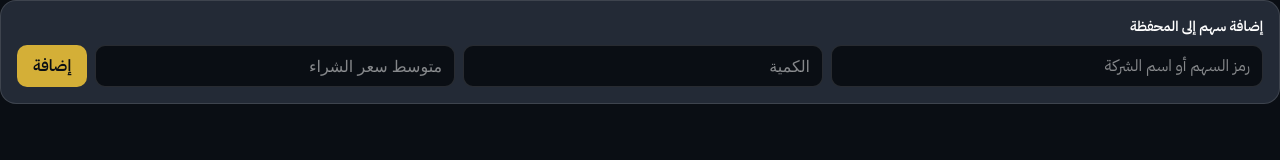
it: AddHoldingForm › surfaces the real backend error message on failure, not a generic one
Type "9999" into the field with placeholder "رمز السهم أو اسم الشركة" at (1047, 66), box [831, 45, 1263, 87]
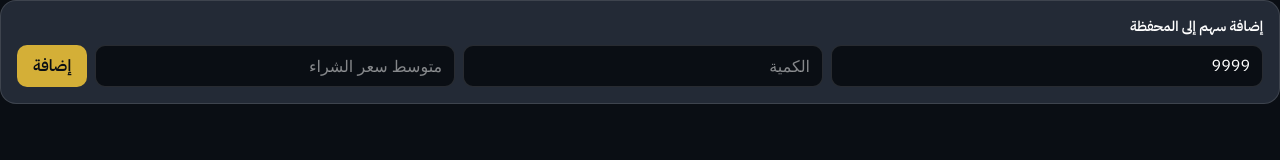
Type "1" into the number field with placeholder "الكمية" at (643, 66), box [463, 45, 823, 87]
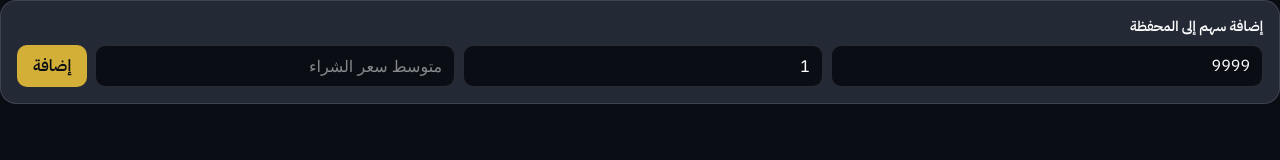
Click the button "إضافة" at (52, 66), box [17, 45, 87, 87]
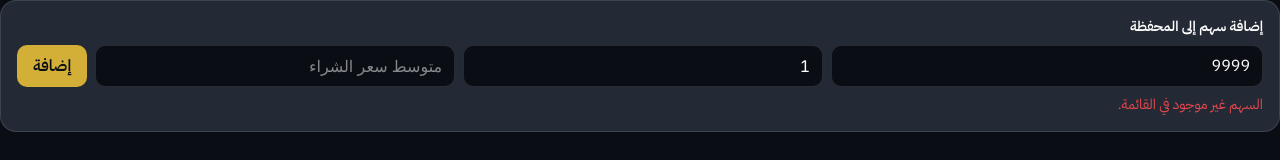
Check: the text "السهم غير موجود في القائمة." is shown, box [1118, 94, 1263, 115]
